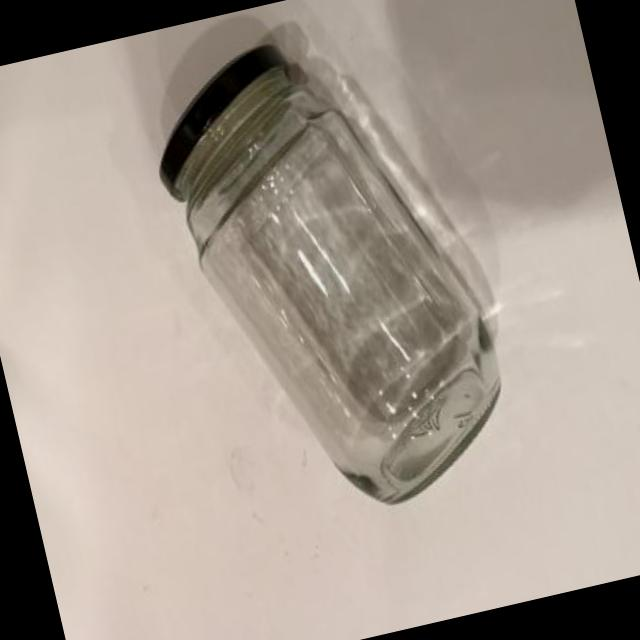chai_thuy_tinh: (176, 67, 501, 502)
kim_loai: (160, 43, 286, 200)
